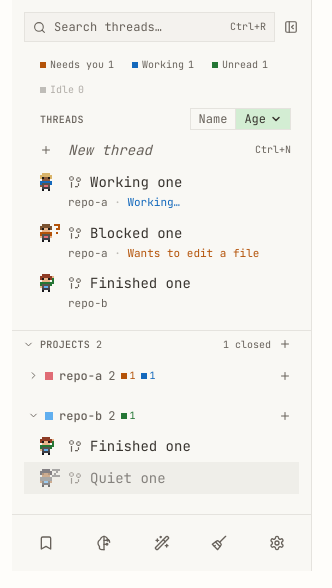
Sidebar attention triage › offers no Close Conversation for a conversation that is already stopped
Check: the text "1 closed" is shown, box 223,336 -> 271,352
Right-click the button "Quiet one" at (162, 478), box 24,462 -> 299,494
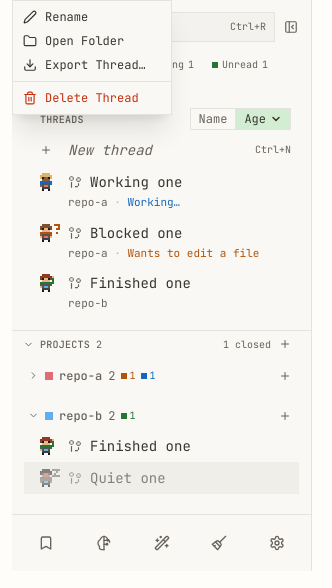
Check: the menu is shown, box 12,0 -> 172,115
